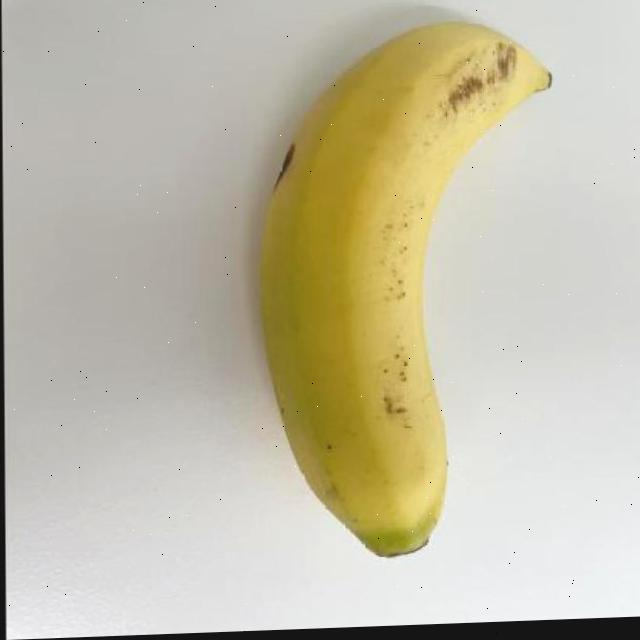banana: (244, 12, 565, 573)
